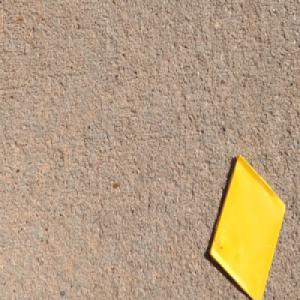PlasticPart: (207, 152, 286, 300)
